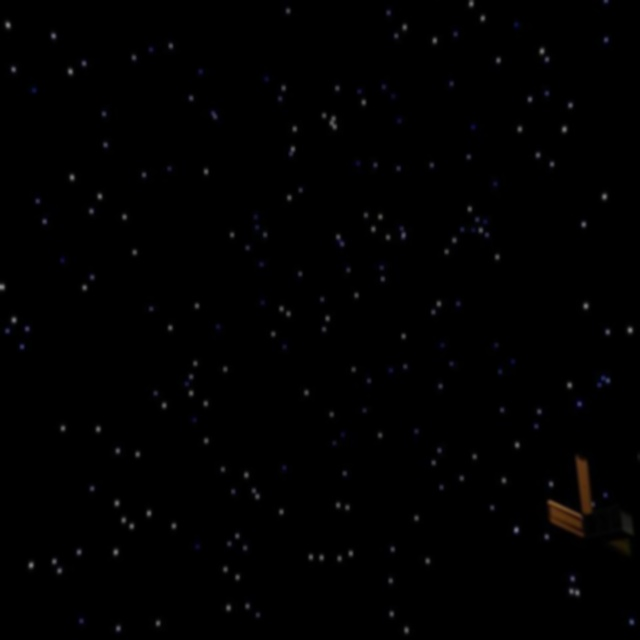medium_debris: (538, 455, 640, 559)
